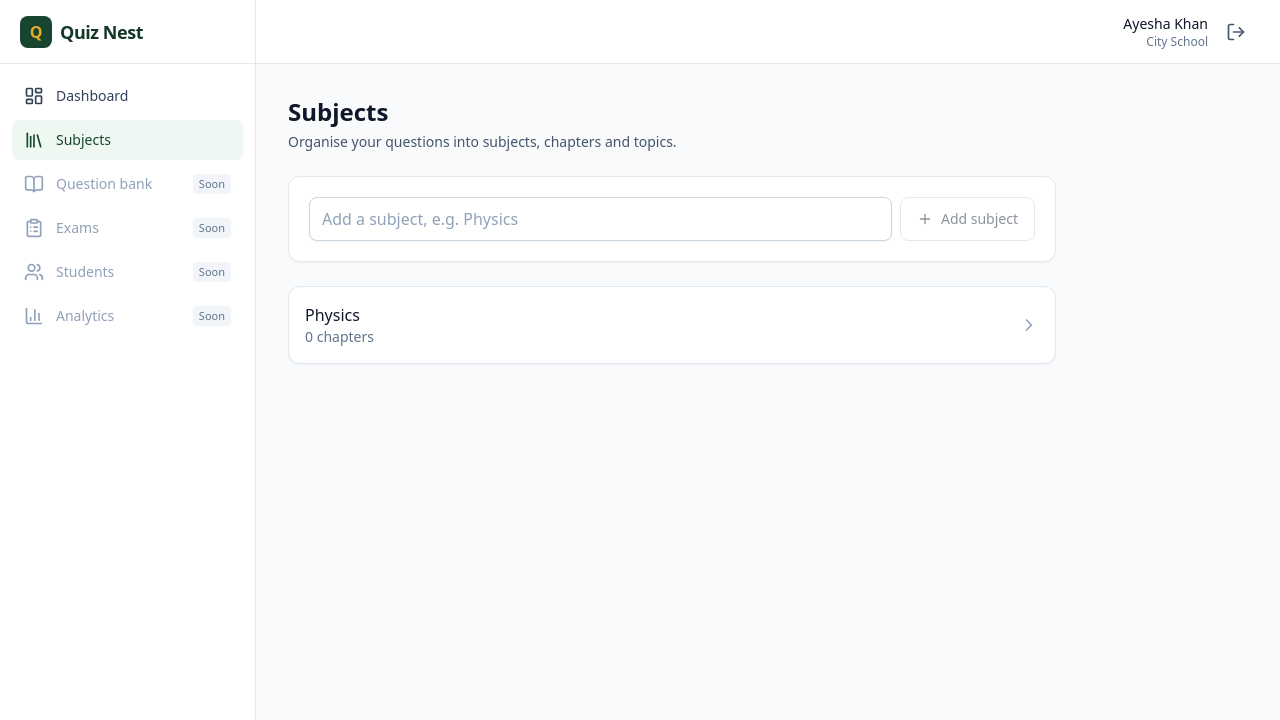
Test: SubjectsPage › shows the error for a duplicate name and keeps the text
Expected: the text "Physics" is shown, [305, 304, 360, 326]
Type "Physics" into the field named "New subject name" at (600, 219), box [309, 197, 892, 241]
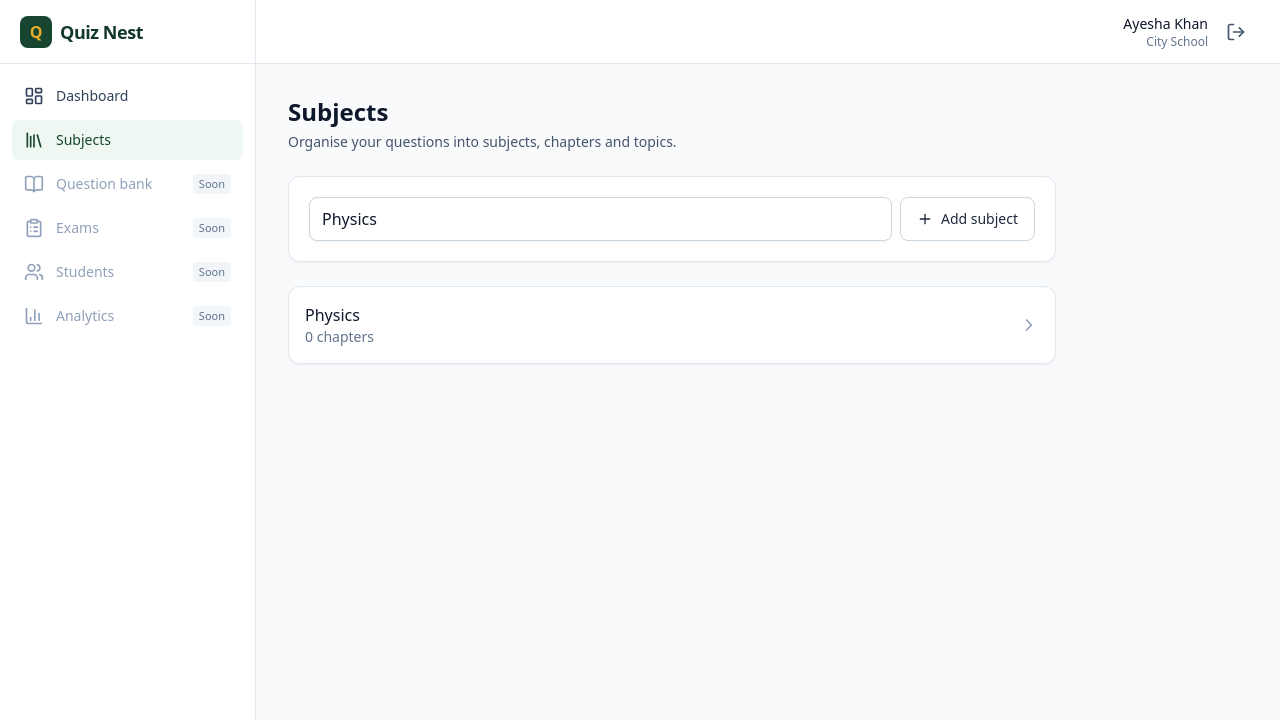
Click the button "Add subject" at (967, 219), box [900, 197, 1035, 241]
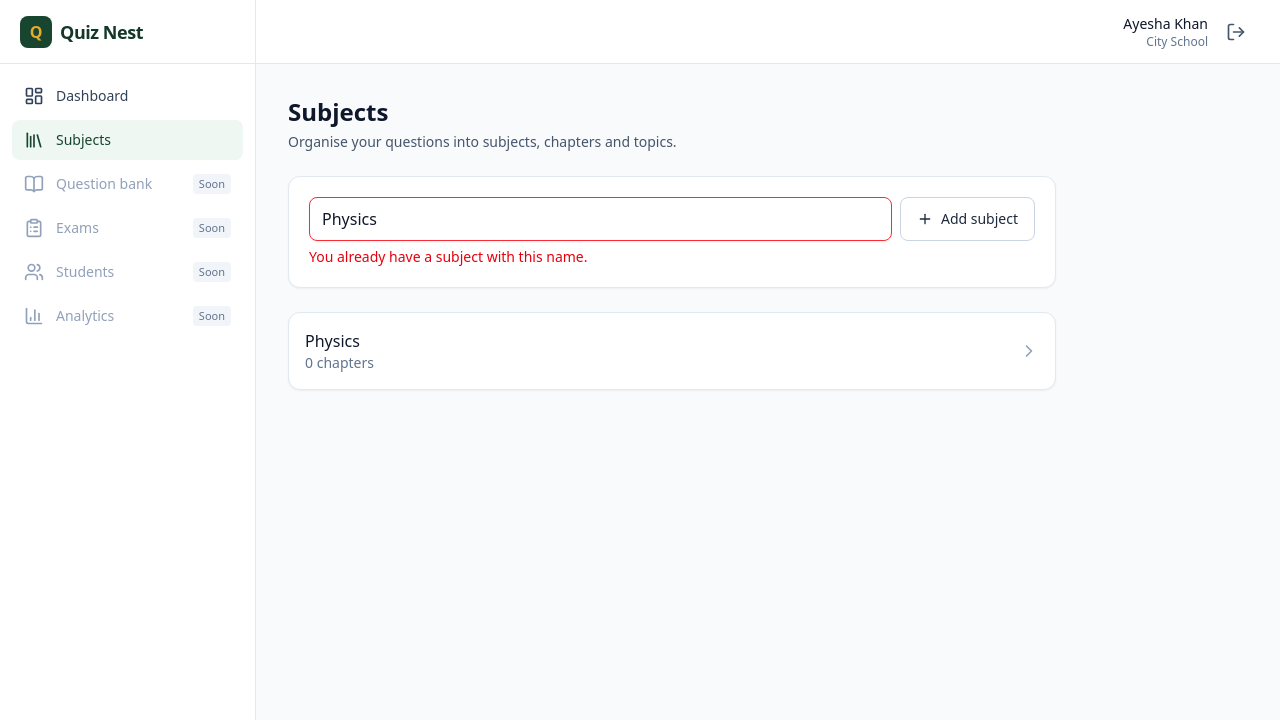
Expected: the text "You already have a subject with this name." is shown, [309, 247, 588, 266]
